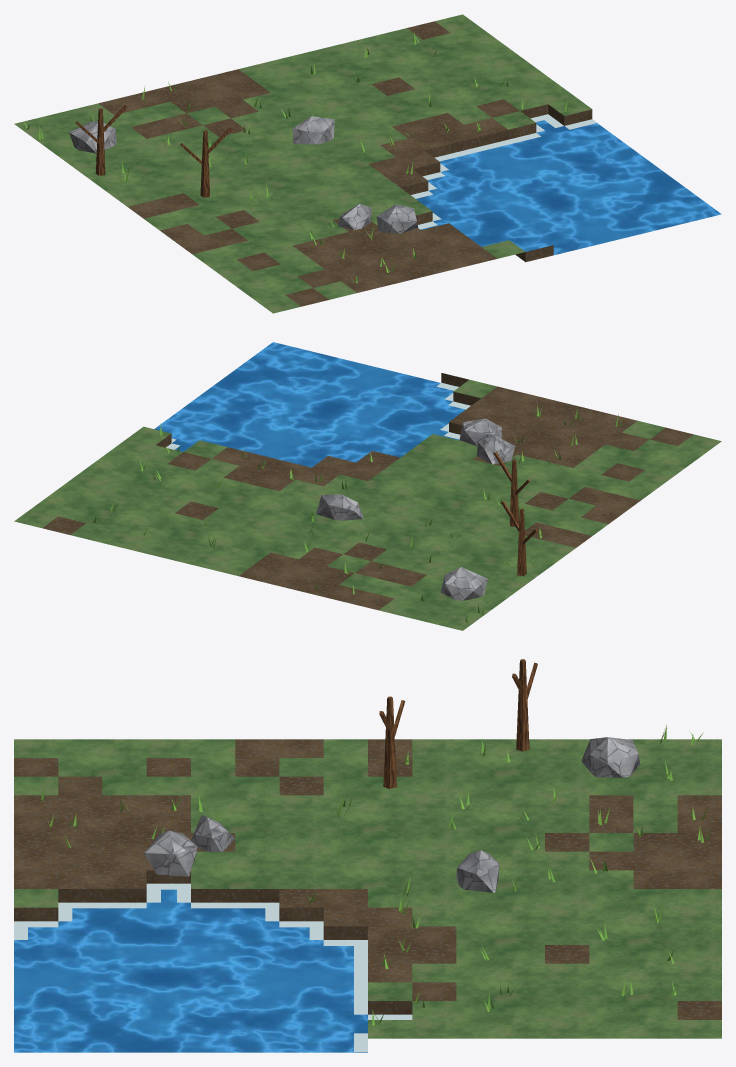
The model's file is chunk_0_16.glb.
3 renders of one model, top to bottom at view 1: azimuth 30°, elevation 25°; view 2: azimuth 150°, elevation 25°; view 3: azimuth 270°, elevation 25°, orthographic. The views are drawn at different scales.
Visible parts, largest first — view 1: chunk_0_16; view 2: chunk_0_16; view 3: chunk_0_16.
Boxes of the visible parts, <box> form: chunk_0_16: <box>14,14,721,313</box>; chunk_0_16: <box>14,342,721,630</box>; chunk_0_16: <box>14,659,721,1052</box>.
Bounding box in the file's own units: 16.24 × 2.73 × 16.
7 materials, 5 textured.
